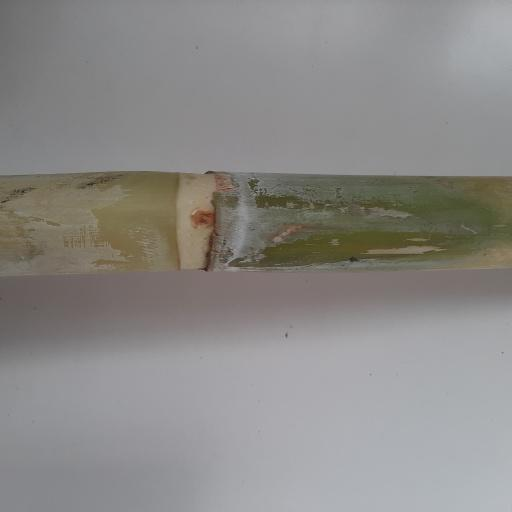Damage_Bud: (188, 208, 217, 229)
